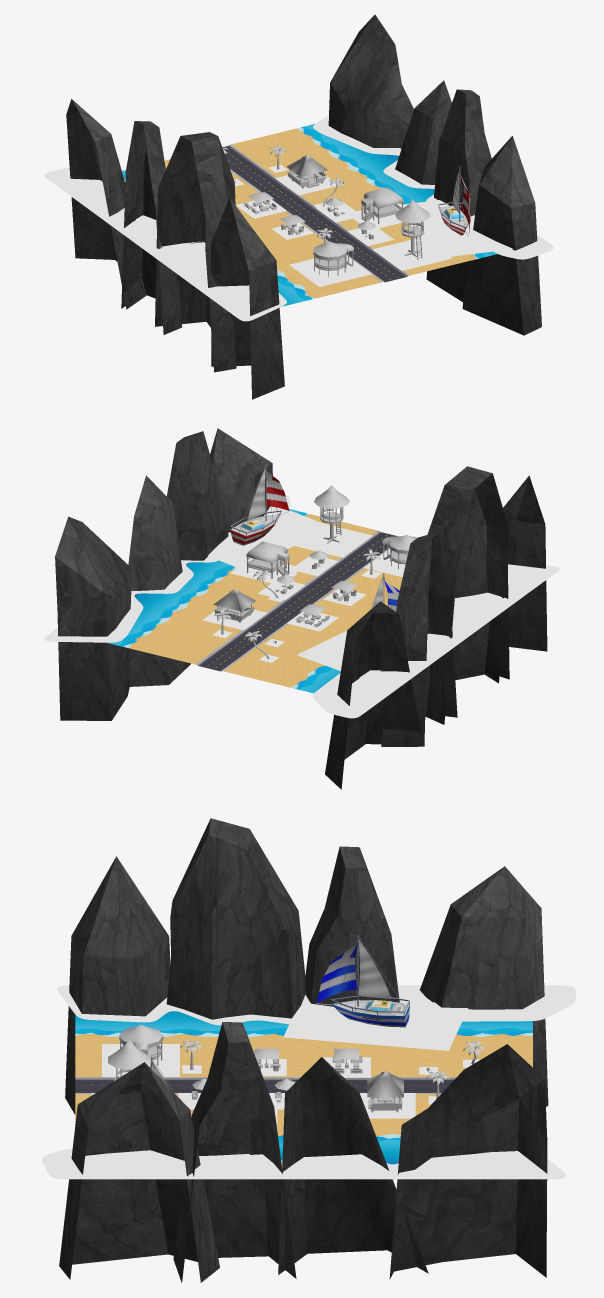
The model's file is Beach_05.fbx.
The picture shows the model from 3 angles, top to bottom: view 1: azimuth 30°, elevation 25°; view 2: azimuth 150°, elevation 25°; view 3: azimuth 270°, elevation 25°; orthographic projection. The views are drawn at different scales.
Parts seen in each view (by area): view 1: Beach_05; view 2: Beach_05; view 3: Beach_05.
Part boxes in pixels (bbox=[...]): Beach_05: bbox=[44, 14, 553, 399]; Beach_05: bbox=[44, 428, 559, 789]; Beach_05: bbox=[42, 818, 575, 1282].
Size of the model in its own units: 22617 by 13384 by 25170.
